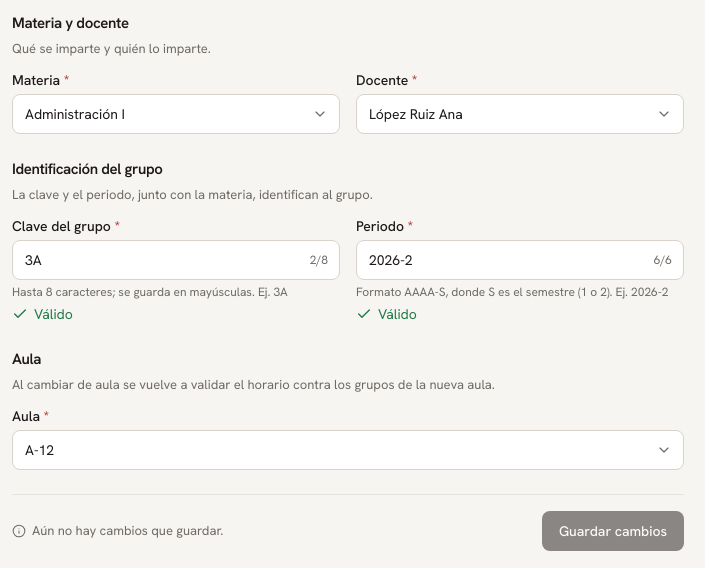
Test case: GrupoForm (edición) › al editar muestra «1 cambio sin guardar», avisa al contenedor y se puede descartar
expect the text "Aún no hay cambios que guardar." is shown: met, box [32, 522, 223, 540]
Step 1. Type "3b" into the field labelled "Clave del grupo *" → coordinates (176, 260), box [12, 240, 340, 280]
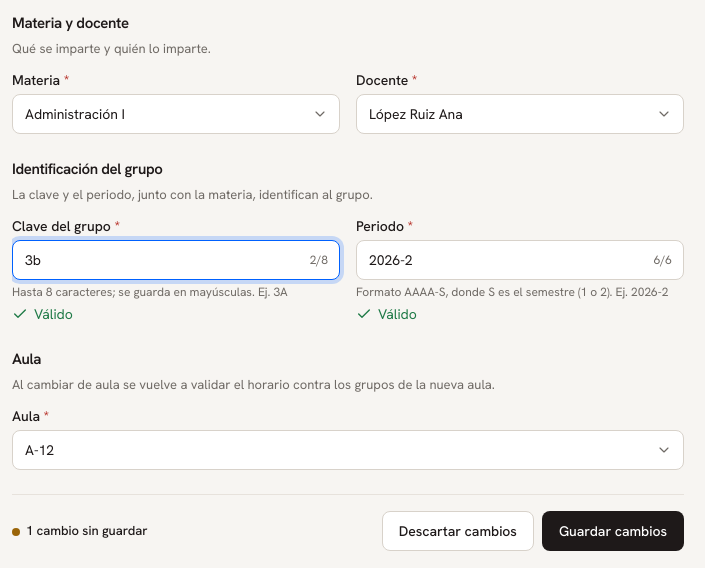
Step 2. Press Tab
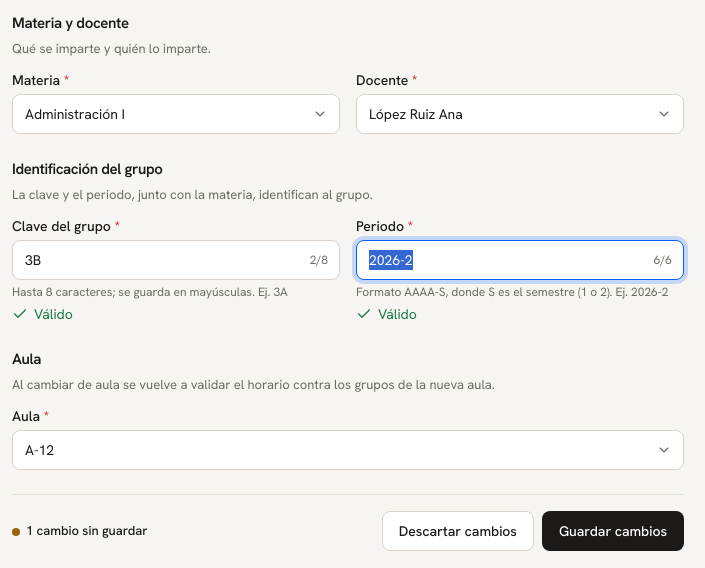
expect the text "1 cambio sin guardar" is shown: met, box [26, 522, 148, 540]
expect the button "Guardar cambios" is enabled: met, box [542, 511, 684, 551]
Step 3. Click the button "Descartar cambios" → coordinates (458, 531), box [382, 511, 534, 551]
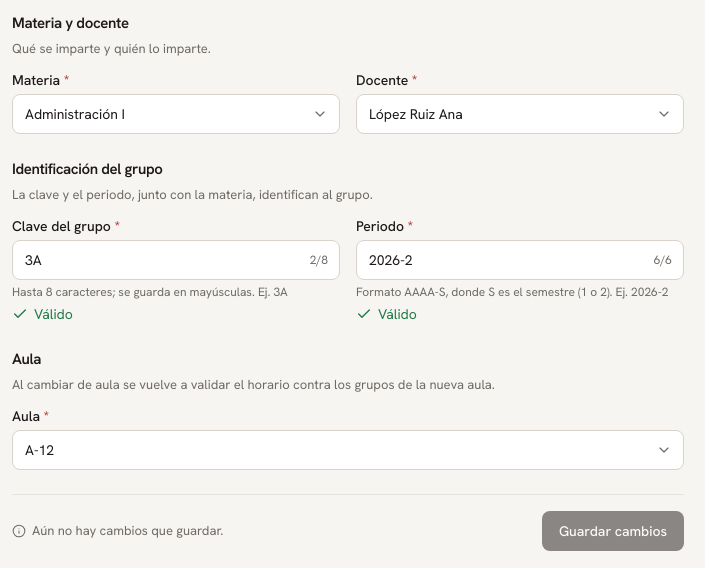
expect the field labelled "Clave del grupo *" holds "3A": met, box [12, 240, 340, 280]
